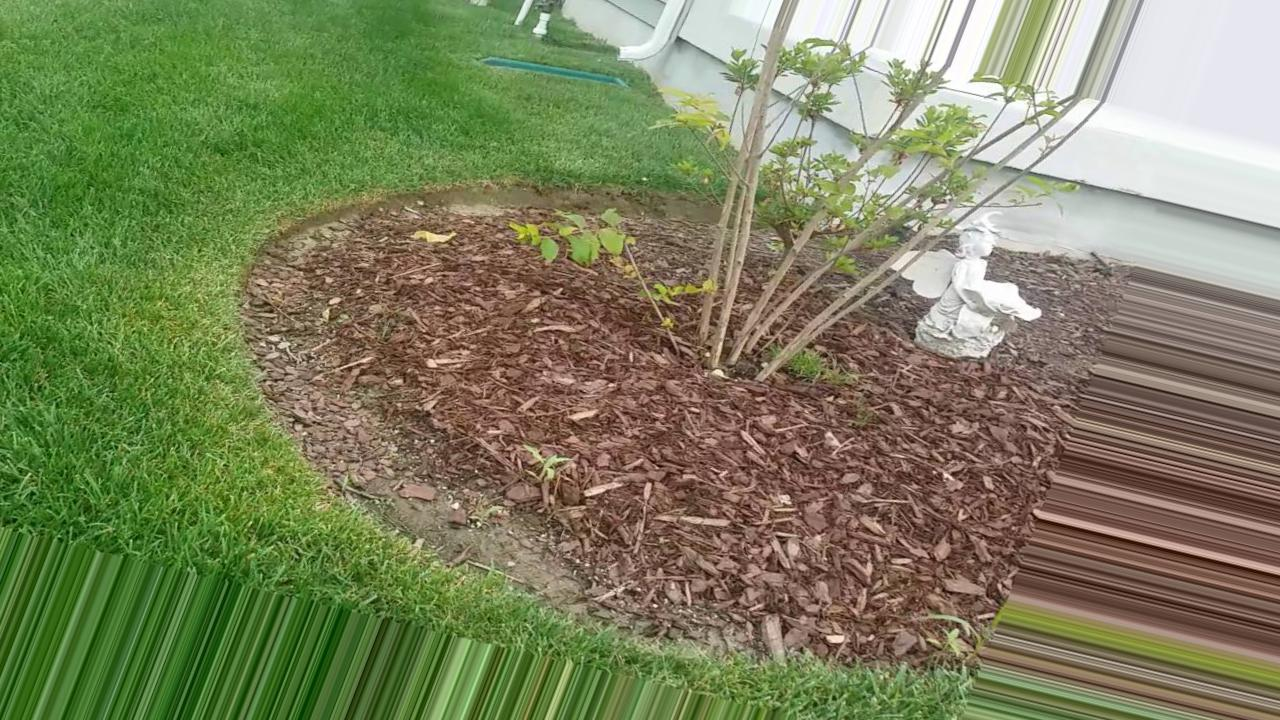patch: (345, 289, 605, 446), (669, 423, 903, 578), (437, 481, 651, 567), (680, 378, 739, 407), (931, 400, 982, 432)
